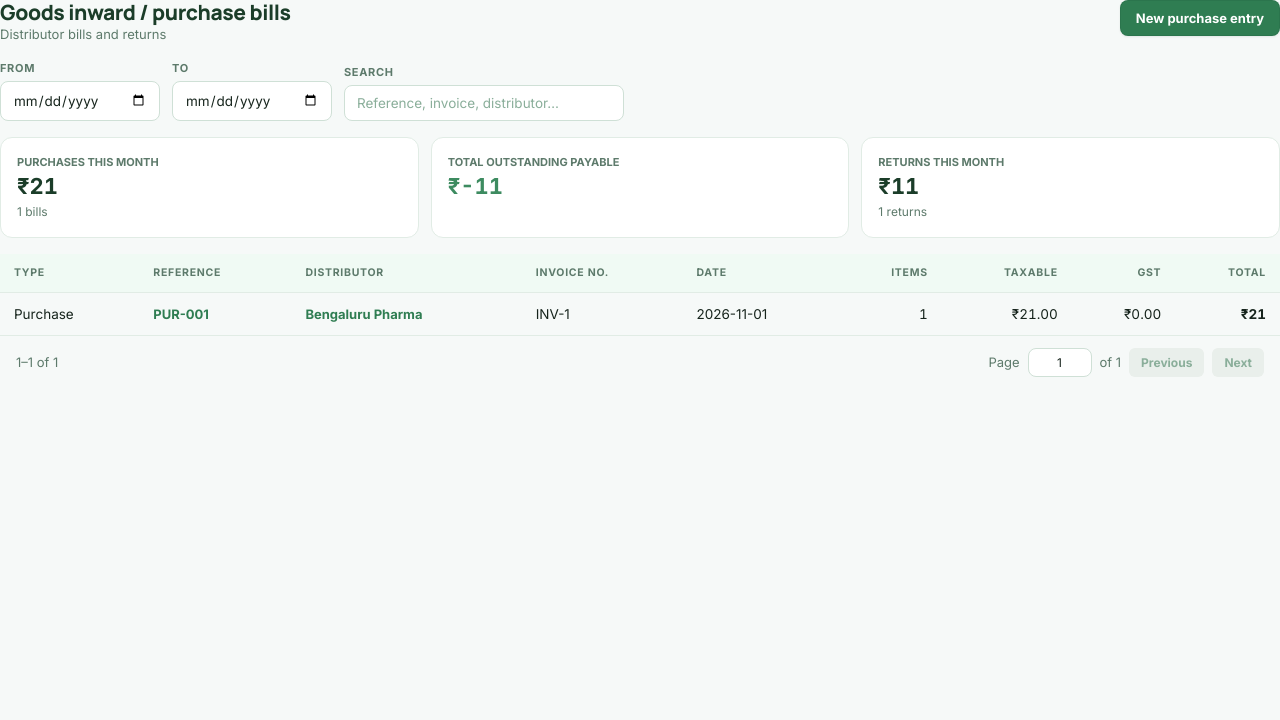
Test: PurchasesPage › opens a return dialog prefilled from the purchase
Click the button "PUR-001".
click(181, 314)  # box [153, 306, 209, 322]
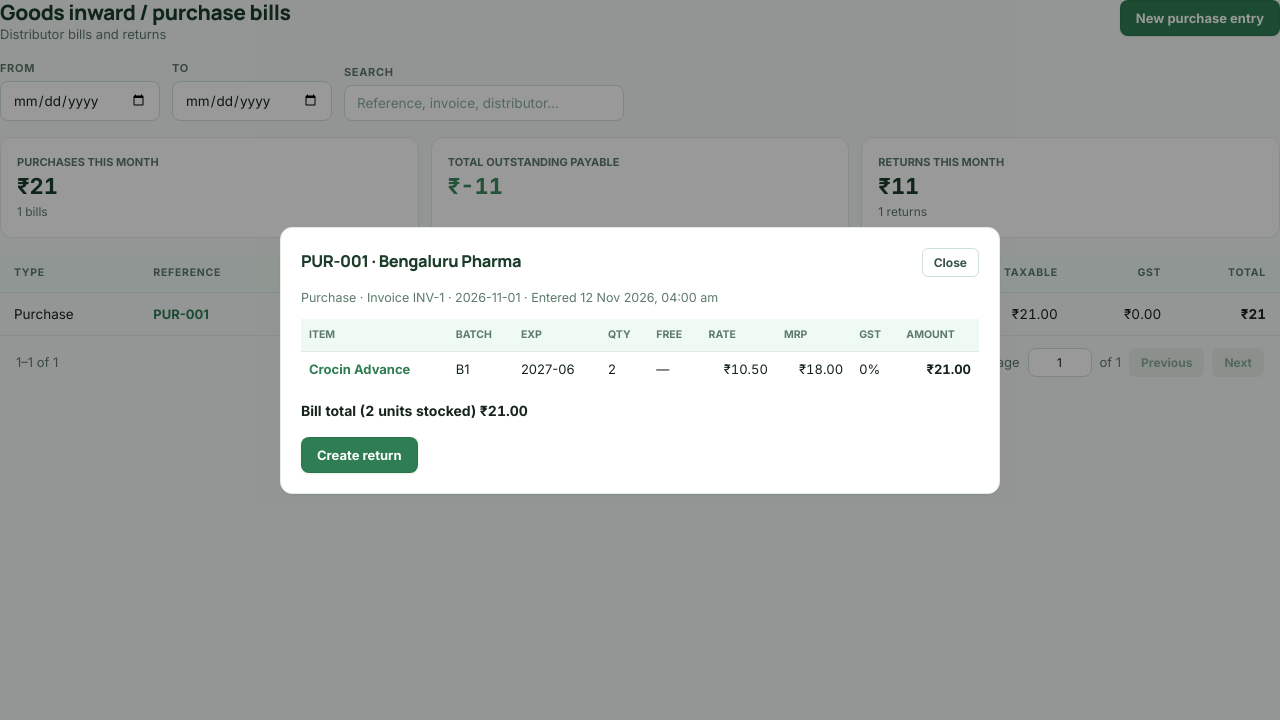
Click the button "Create return".
click(359, 454)  # box [301, 436, 418, 472]
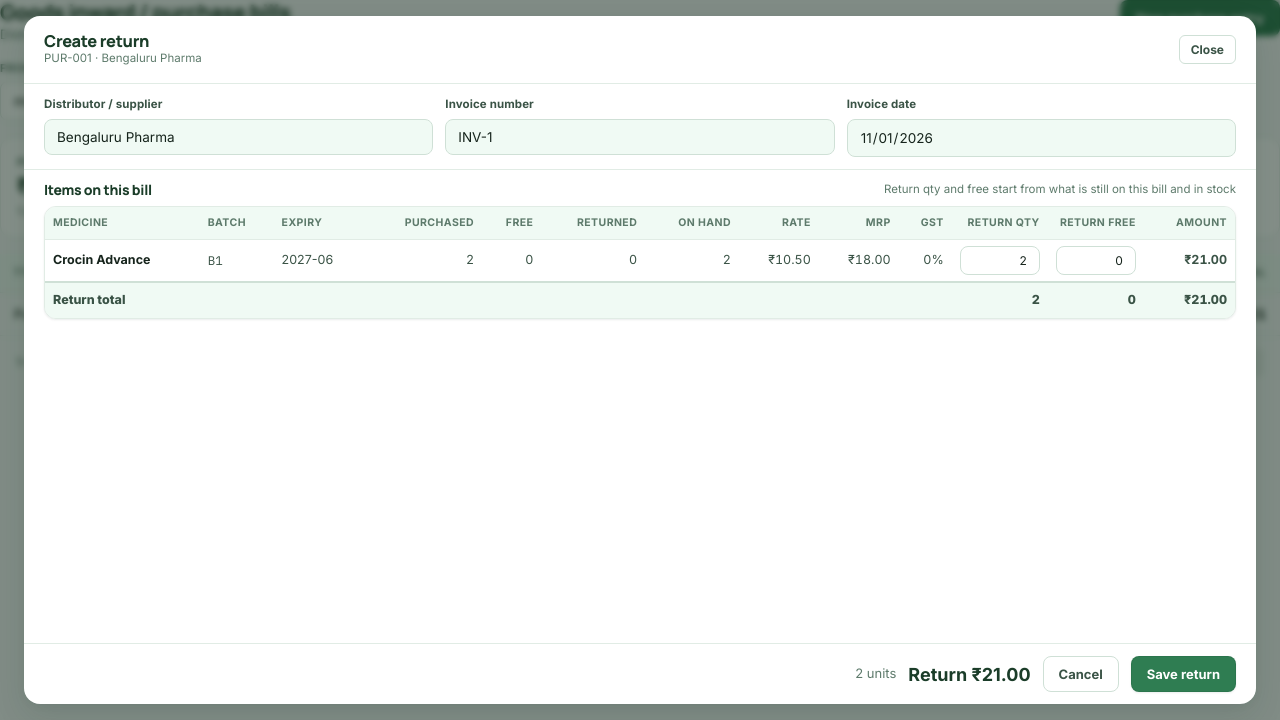
Expected: the dialog "Create return" is shown
Expected: the field named "Distributor" holds "Bengaluru Pharma", [44, 119, 433, 155]
Expected: the field named "Invoice number" holds "INV-1", [445, 119, 835, 155]
Click the button "Cancel".
click(1081, 674)  # box [1042, 656, 1119, 692]
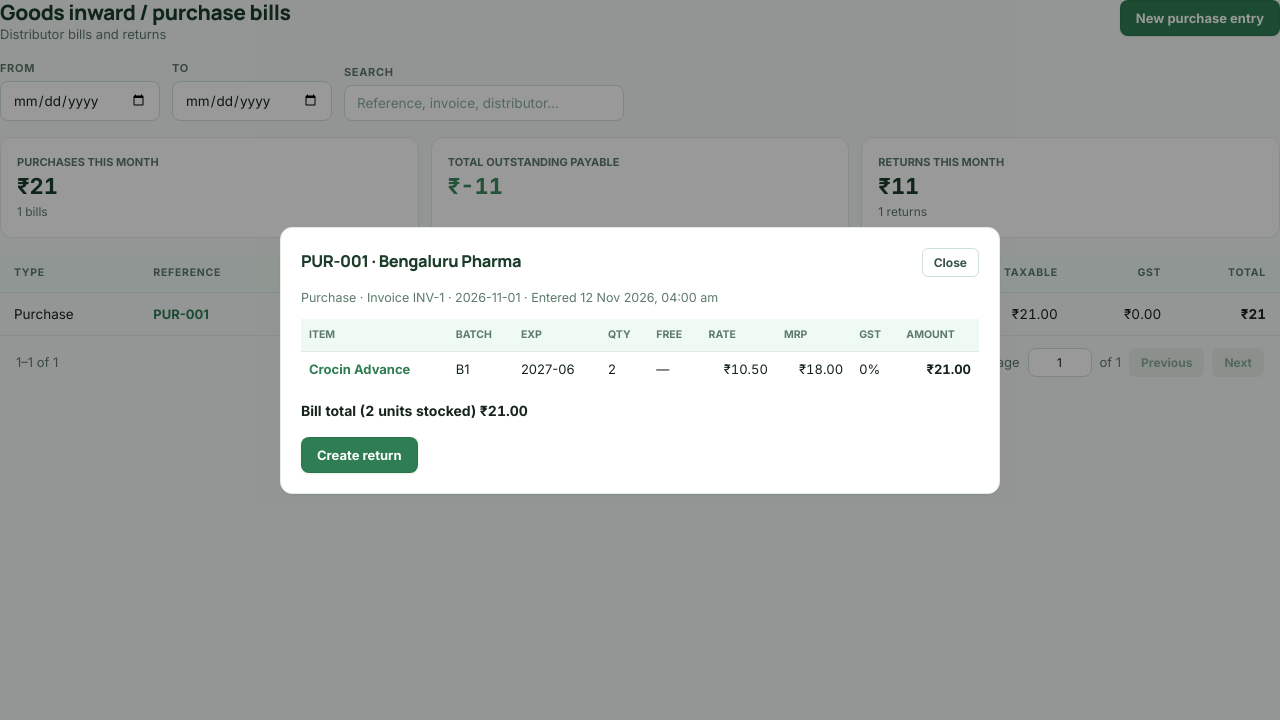
Expected: the dialog named "PUR-001 receipt" is shown, [280, 226, 1000, 494]
